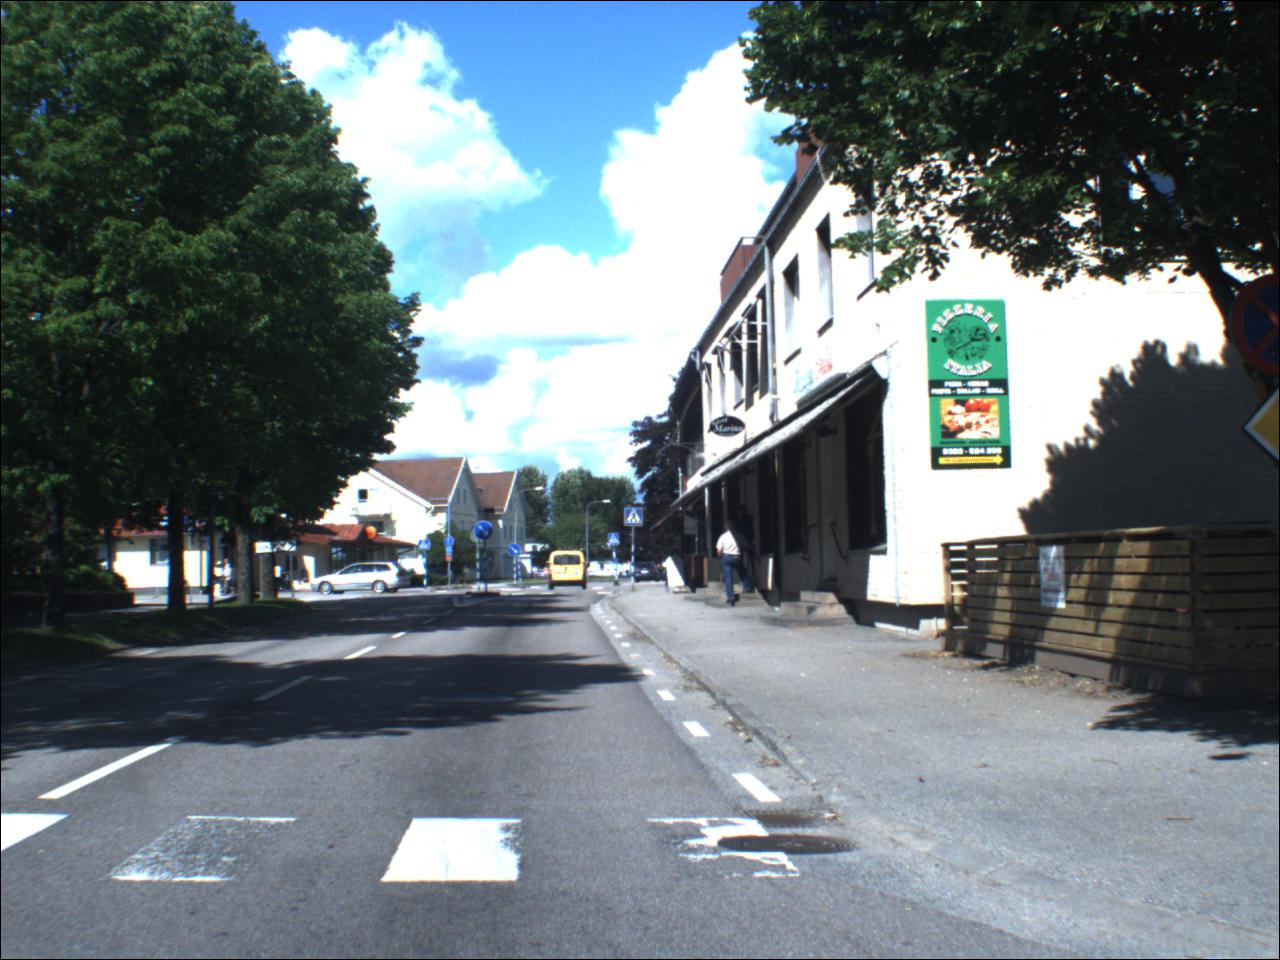NO_STOPPING_NO_STANDING: (1230, 273, 1280, 381)
PASS_RIGHT_SIDE: (477, 521, 496, 543), (509, 545, 523, 559)
PEDESTRIAN_CROSSING: (626, 509, 646, 529), (421, 541, 434, 553), (610, 535, 623, 547)
PRIORITY_ROAD: (1234, 385, 1280, 468)
